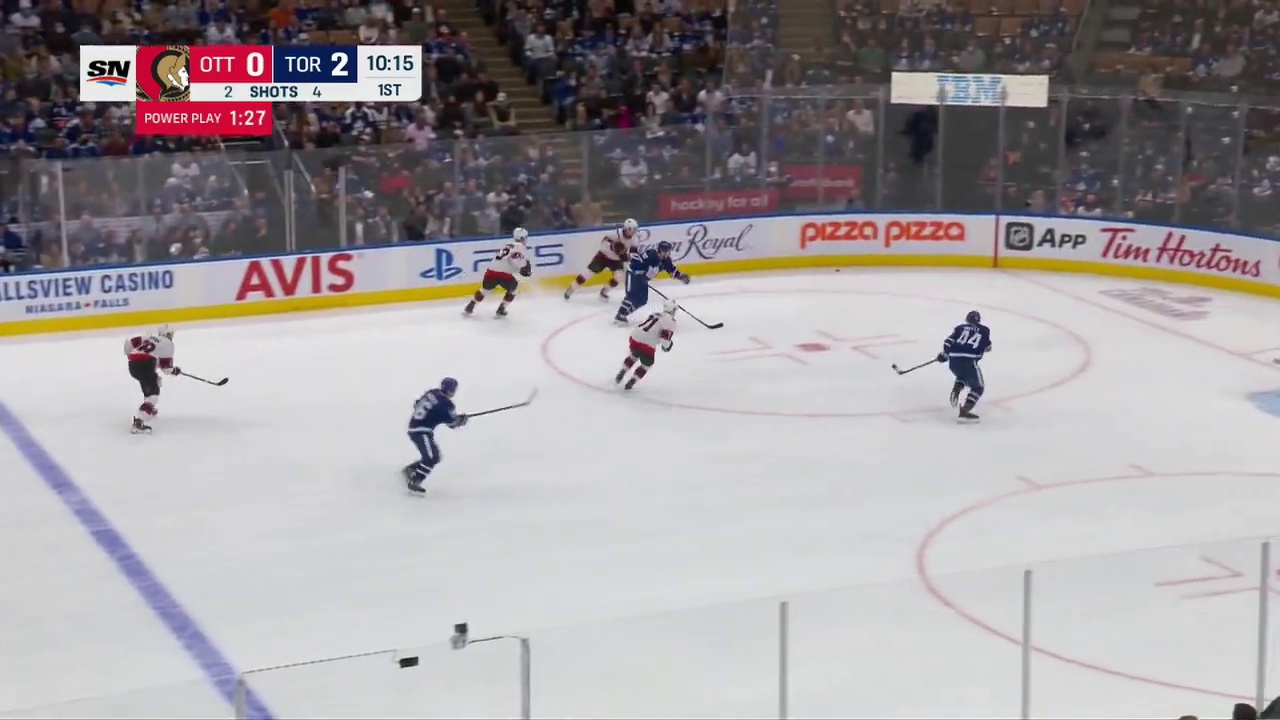hockeyplayer: (401, 377, 469, 497), (462, 227, 532, 320), (614, 241, 690, 326), (123, 323, 181, 434), (937, 310, 992, 424), (564, 218, 638, 301), (614, 299, 678, 391)
